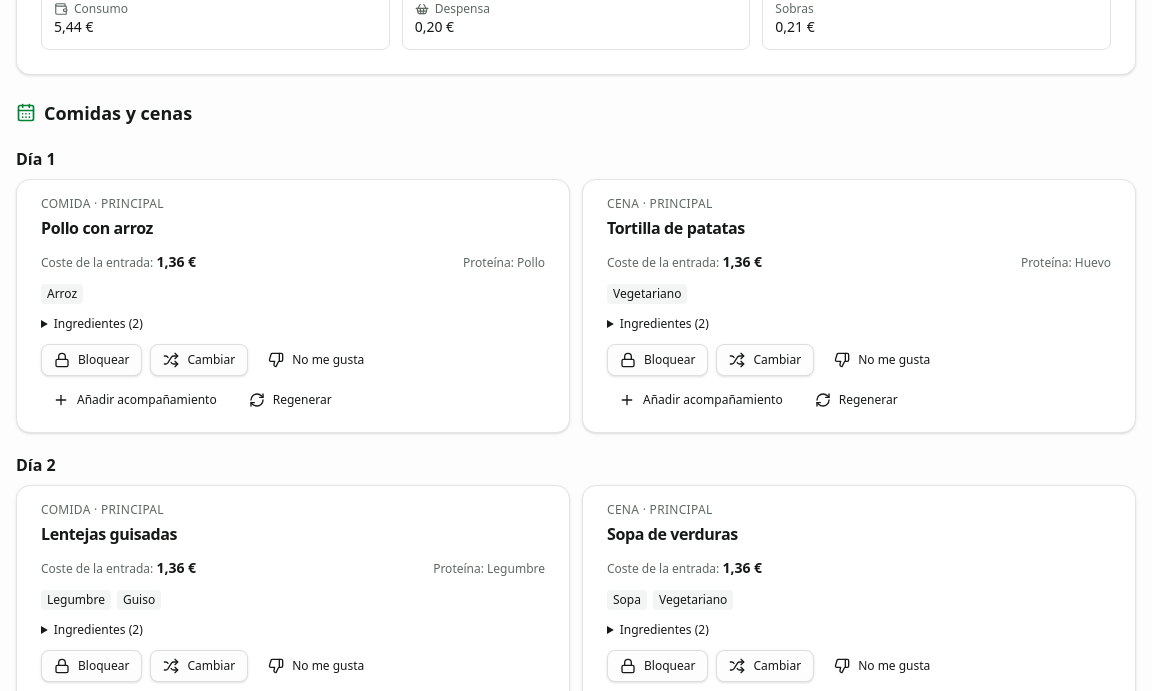
MenuDetailPage › rechaza un cambio que supera el presupuesto sin tocar el menú
The image size is (1152, 691).
(page scrolled)
Click the button with aria-label "Cambiar Tortilla de patatas" at (765, 360), box x1=716 y1=344 x2=814 y2=376
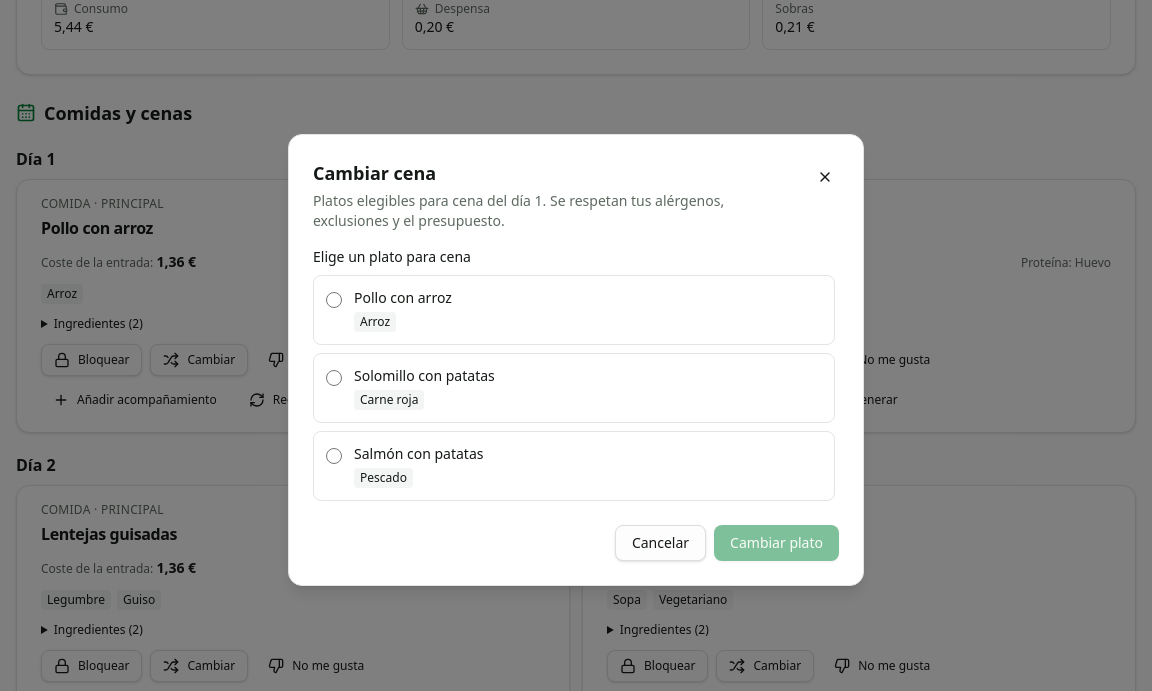
Click the radio button labelled "Solomillo con patatas Carne roja" at (334, 378), box x1=326 y1=370 x2=342 y2=386
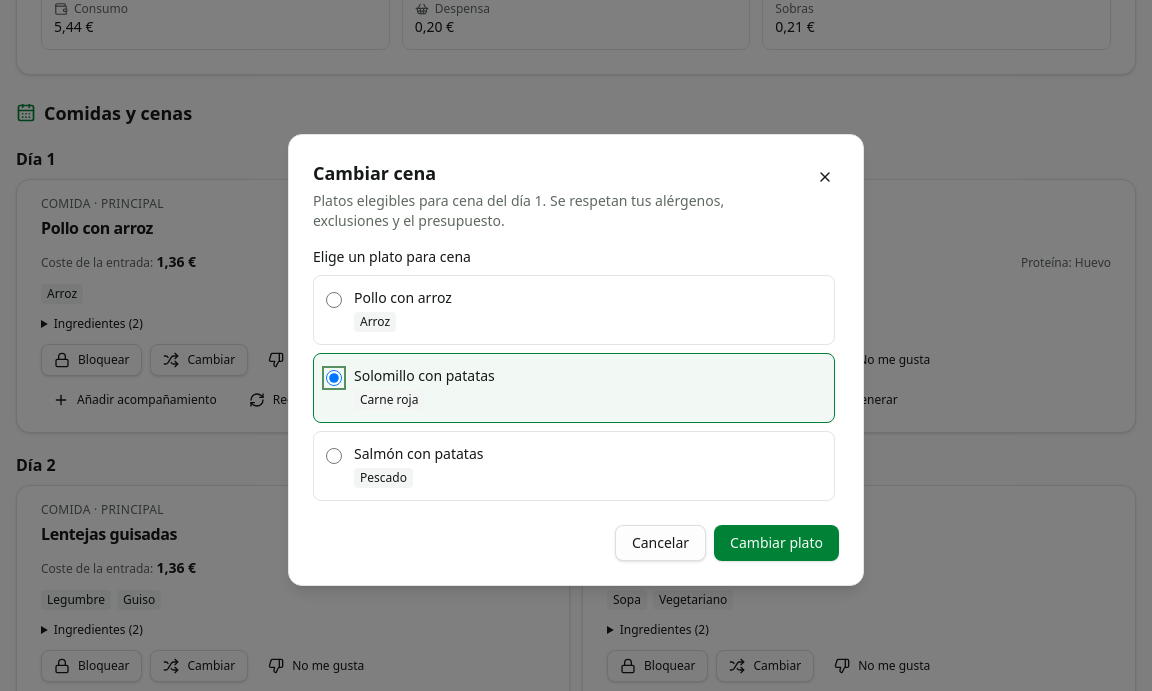
Click the button "Cambiar plato" at (777, 543), box x1=714 y1=525 x2=839 y2=561
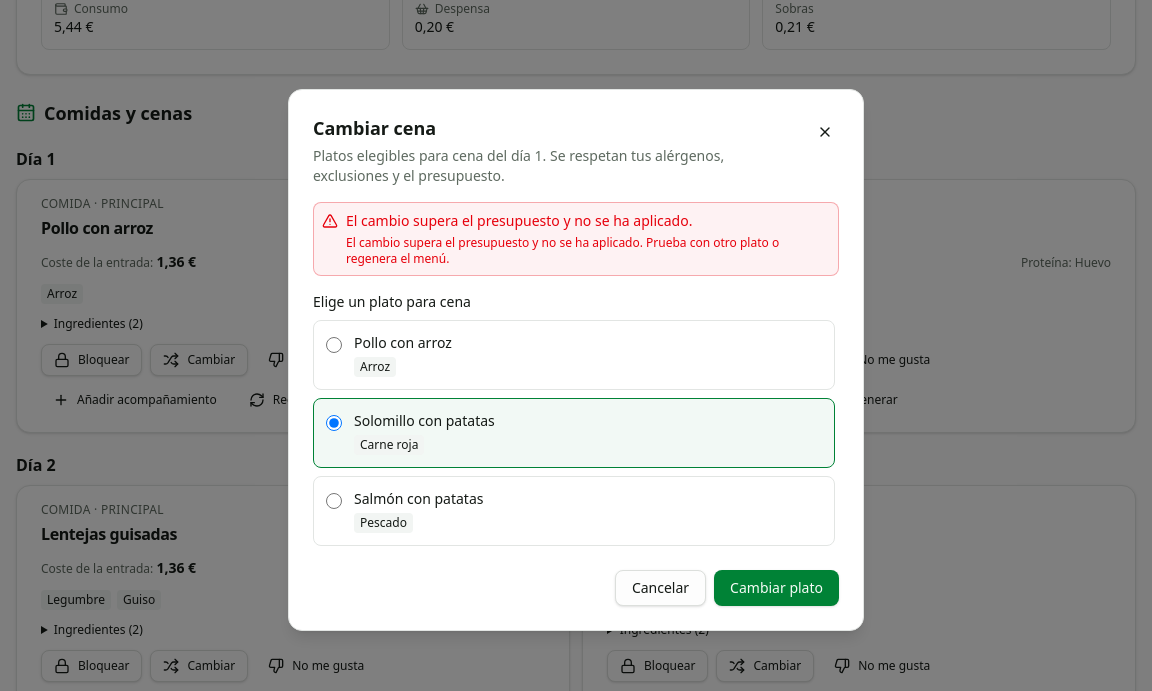
expect the dialog "Cambiar cena" is shown: met, box x1=288 y1=89 x2=864 y2=631
expect the message shows "El cambio supera el presupuesto y no se ha aplicado.": met, box x1=346 y1=211 x2=692 y2=230
expect the message shows "Prueba con otro plato": met, box x1=346 y1=234 x2=779 y2=267
